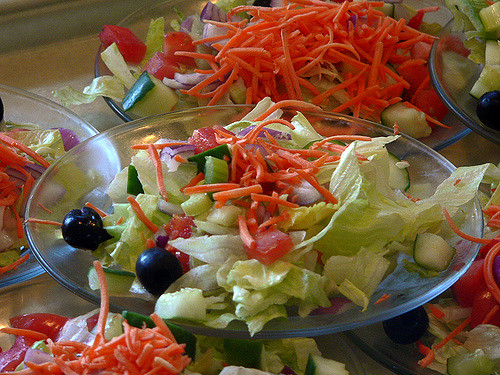chopped lettuce: (330, 150, 458, 291), (185, 236, 365, 330), (104, 154, 239, 252)
